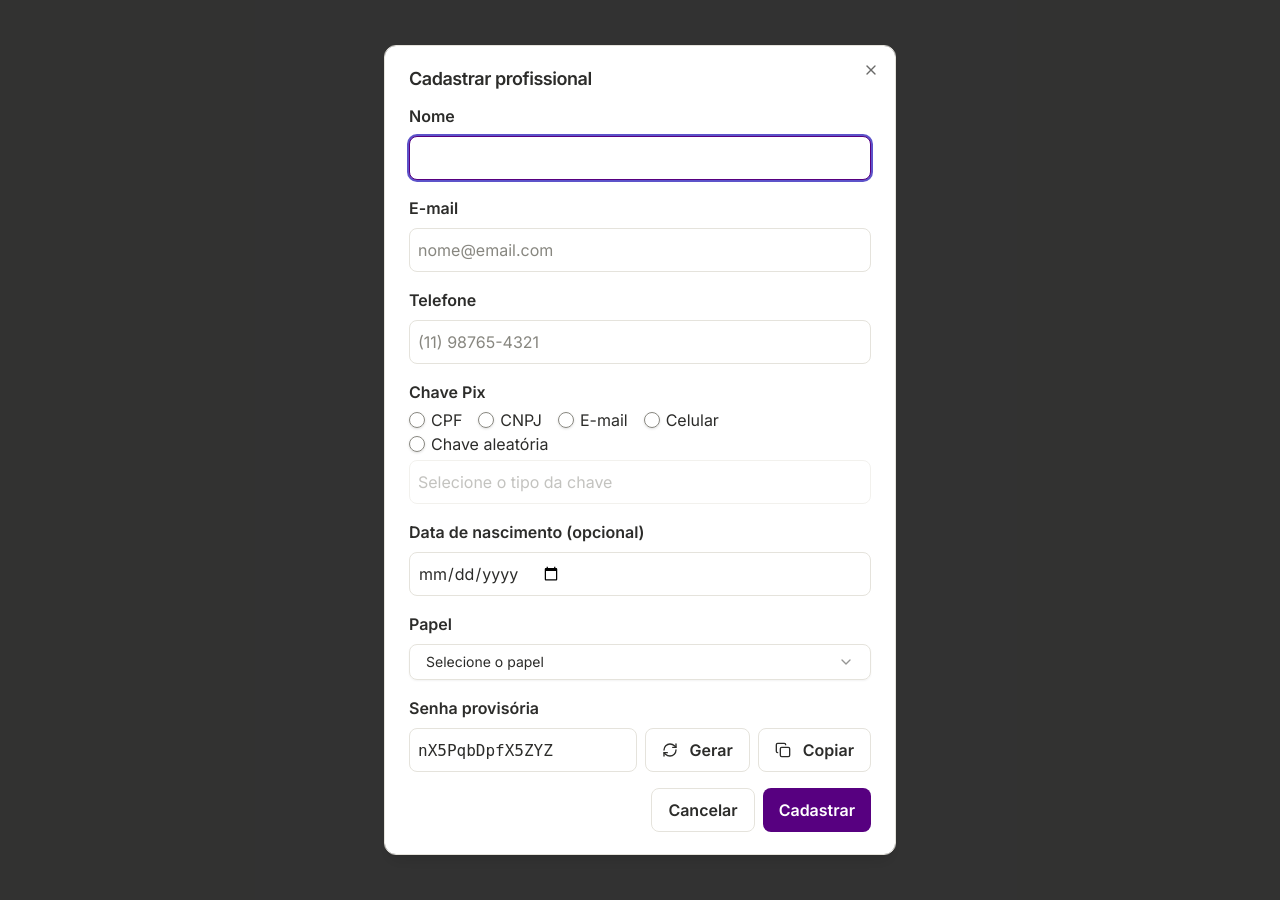
Test: CreateMemberDialog › requires the mandatory fields
The width and height of the screenshot is (1280, 900).
Click the button "Cadastrar".
click(817, 810)  # box [763,788,871,832]
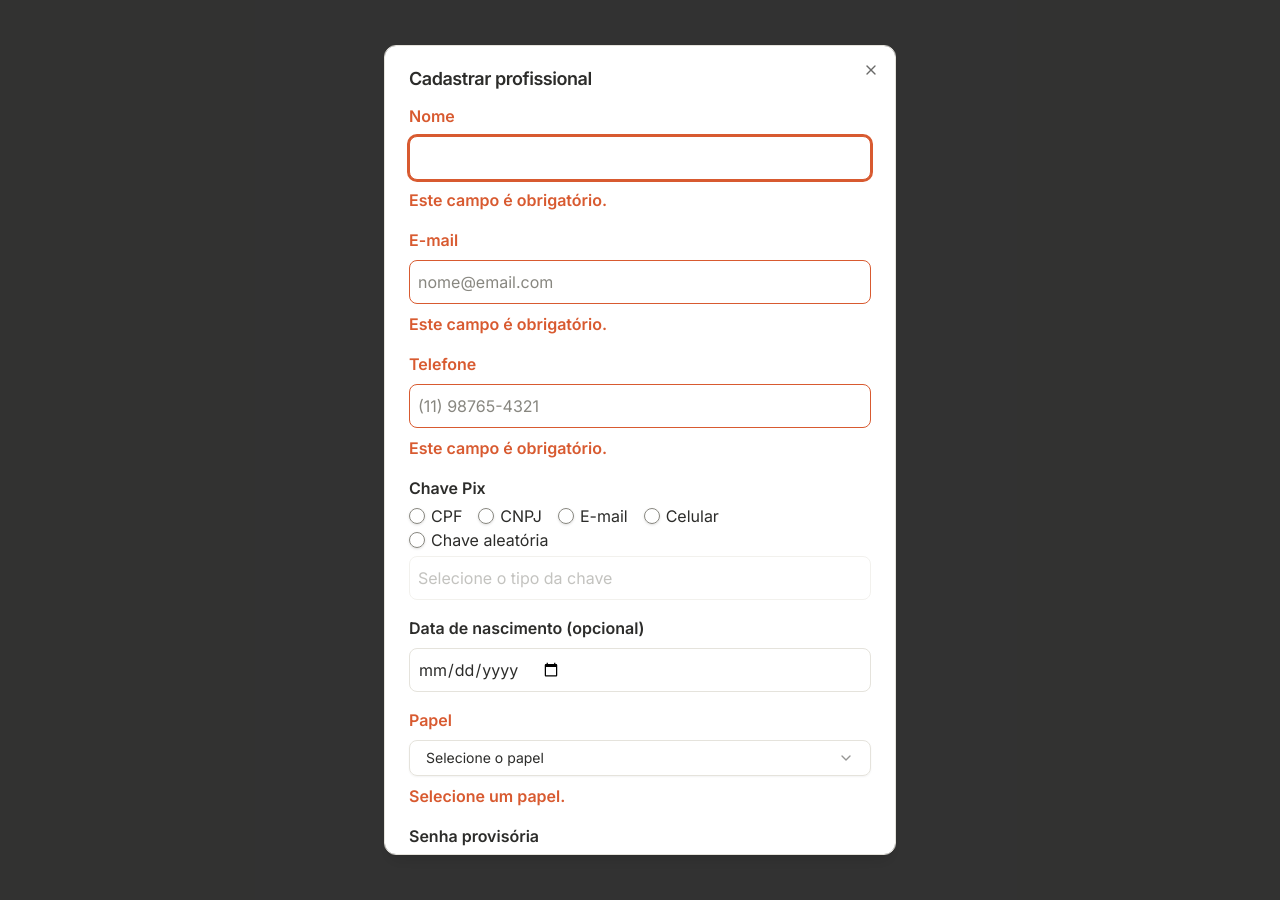
Check: the text "Selecione um papel." is shown, box [409,786,565,806]
